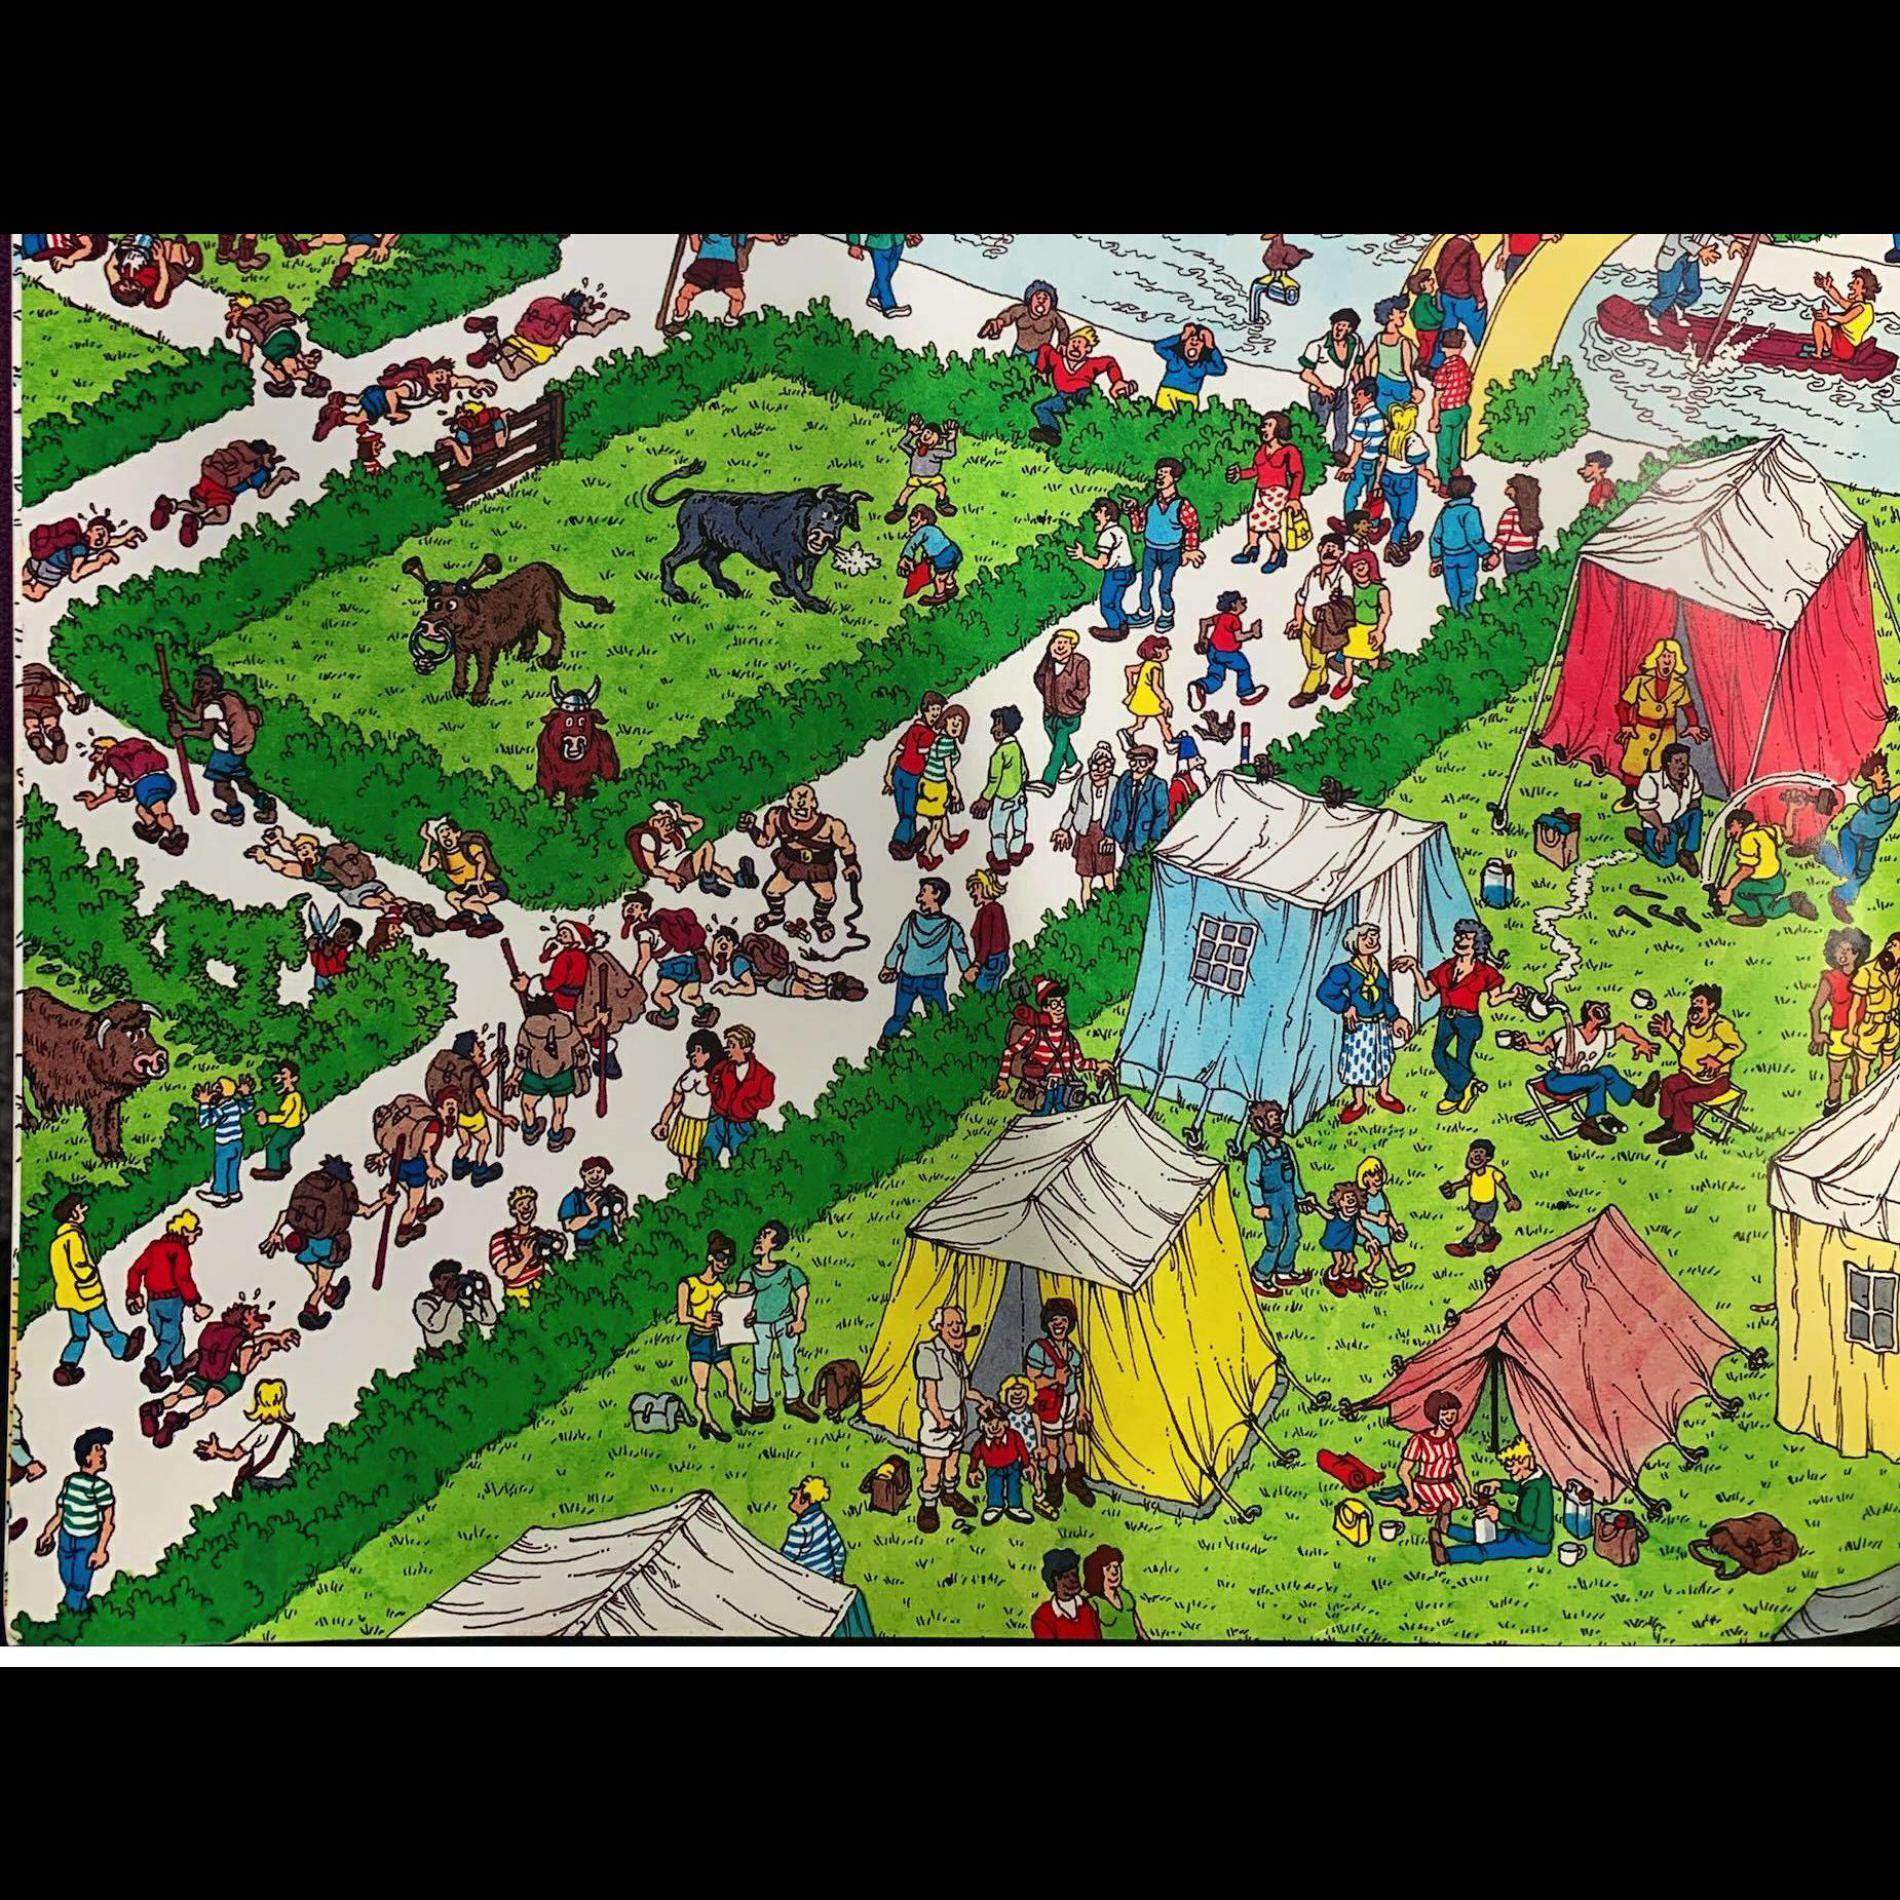Waldo: (1034, 973, 1074, 1082)
Wizard: (1167, 720, 1253, 811)
